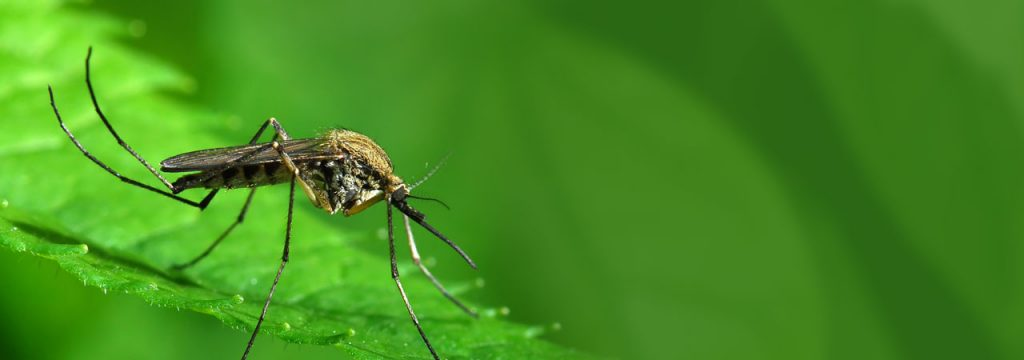mosquito: (38, 41, 509, 360)
